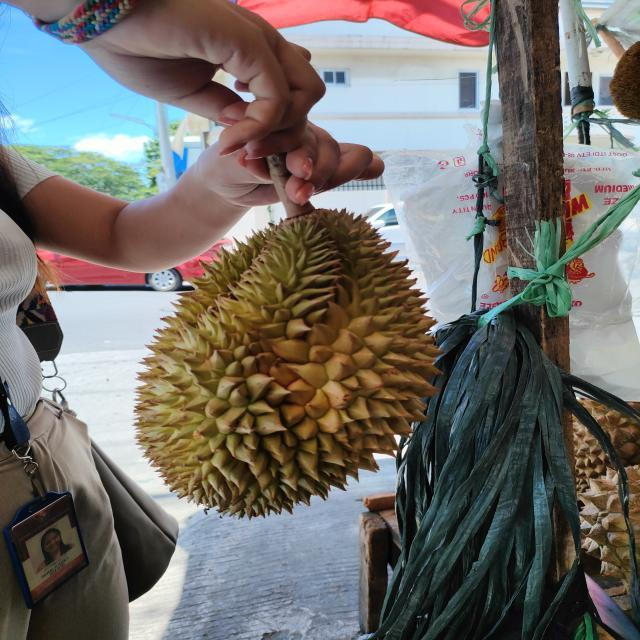mature: (133, 208, 447, 518)
